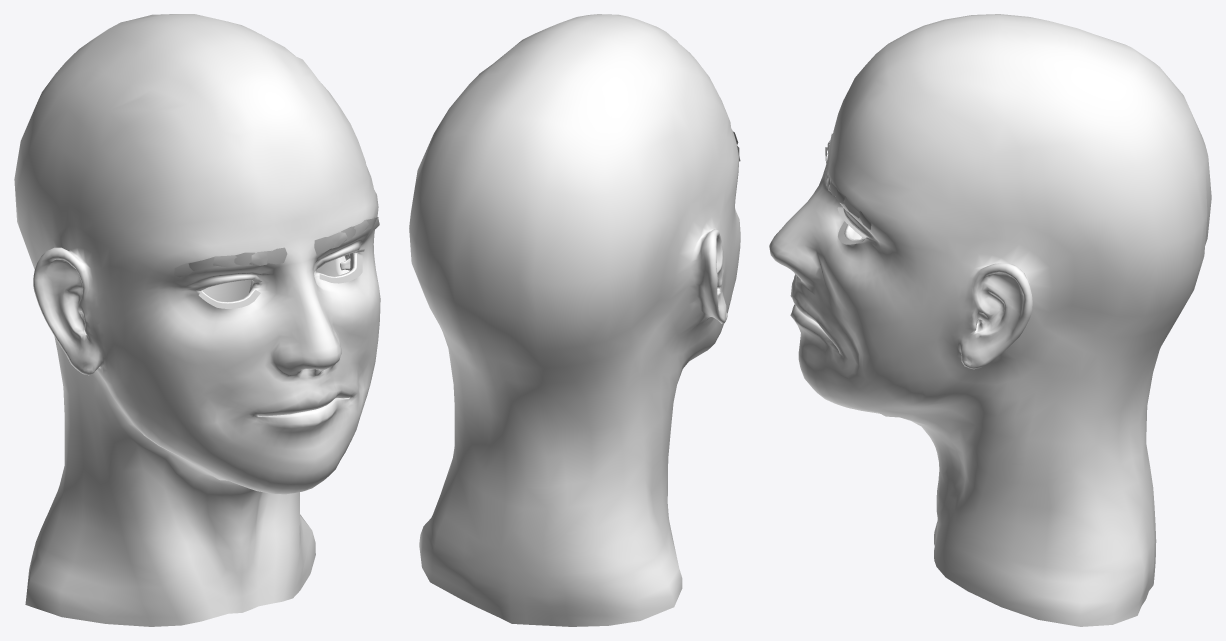
Rendered from mouthStretchLeft.obj.
3 renders of one model, left to right at view 1: azimuth 30°, elevation 25°; view 2: azimuth 150°, elevation 25°; view 3: azimuth 270°, elevation 25°, orthographic. The views are drawn at different scales.
Visible parts, largest first — view 1: FaceMesh_Plane.003; view 2: FaceMesh_Plane.003; view 3: FaceMesh_Plane.003.
Boxes of the visible parts, x1,y1,x2,y2 form: FaceMesh_Plane.003: [14, 14, 380, 626]; FaceMesh_Plane.003: [409, 14, 740, 626]; FaceMesh_Plane.003: [769, 14, 1211, 626].
Size of the model in its own units: 1.54 by 2.71 by 1.94.
Materials: 5 (1 with a texture image).
